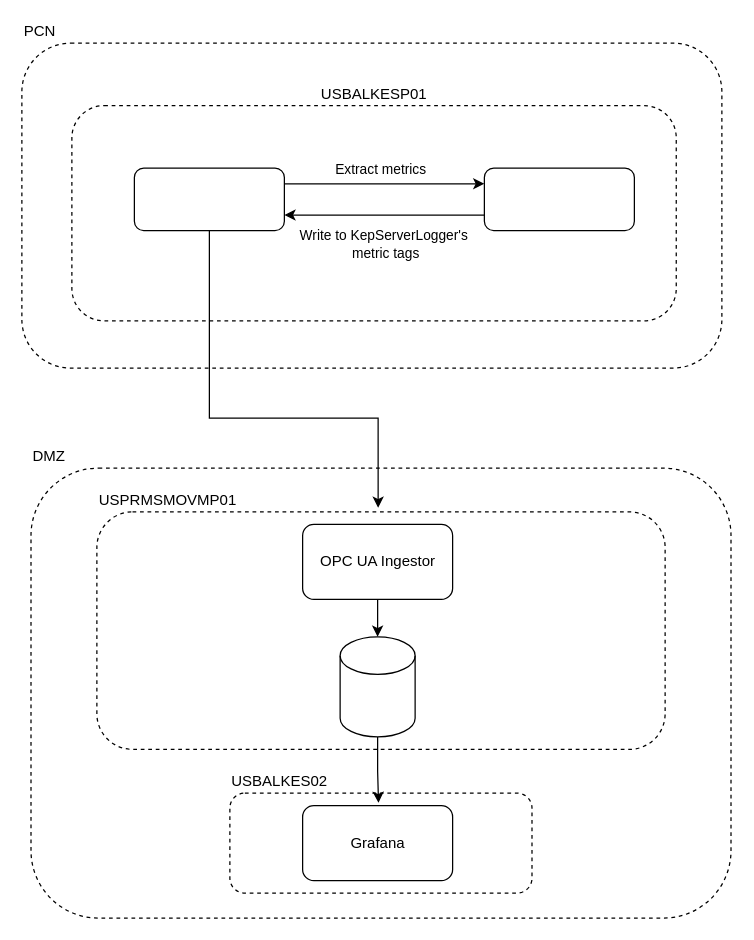
Some shapes in this 754 by 940 pixel diagram are drawn without their labels. The centre of each missing label's shape, as x and y in pixels:
"DB" goes at point 377,686.
"Extractor" goes at point 558,199.
"KepServer" goes at point 208,199.
